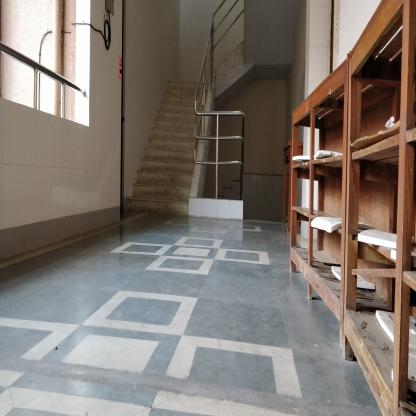stairs: (158, 125, 188, 218)
